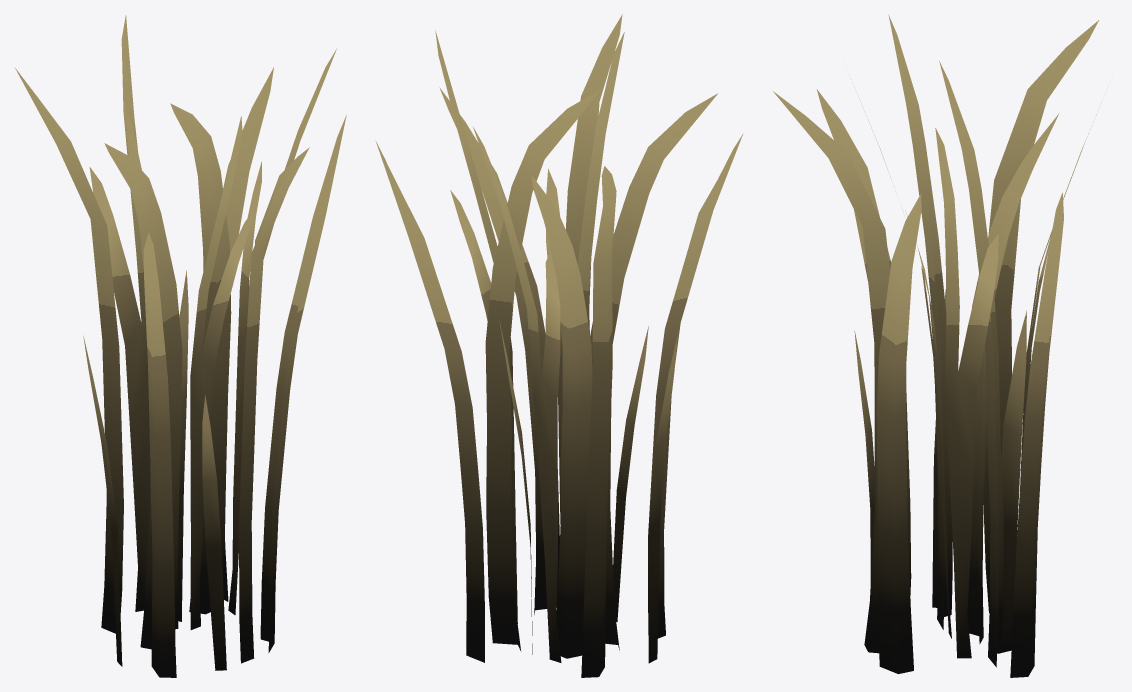
Rendered from dry-fiber-standing-stems.glb.
3 views of the same model, side by side, from view 1: azimuth 30°, elevation 25°; view 2: azimuth 150°, elevation 25°; view 3: azimuth 270°, elevation 25° (orthographic). The views are drawn at different scales.
Parts seen in each view (by area): view 1: dry-fiber-standing-stems runtime mesh; view 2: dry-fiber-standing-stems runtime mesh; view 3: dry-fiber-standing-stems runtime mesh.
Boxes of the visible parts, box(x1,y1,x2,y2) form: dry-fiber-standing-stems runtime mesh: box(15, 15, 346, 677); dry-fiber-standing-stems runtime mesh: box(375, 14, 743, 677); dry-fiber-standing-stems runtime mesh: box(773, 15, 1101, 677).
Bounding box in the file's own units: 0.2007 × 0.42 × 0.2227.
Materials: 1 (1 with a texture image).
